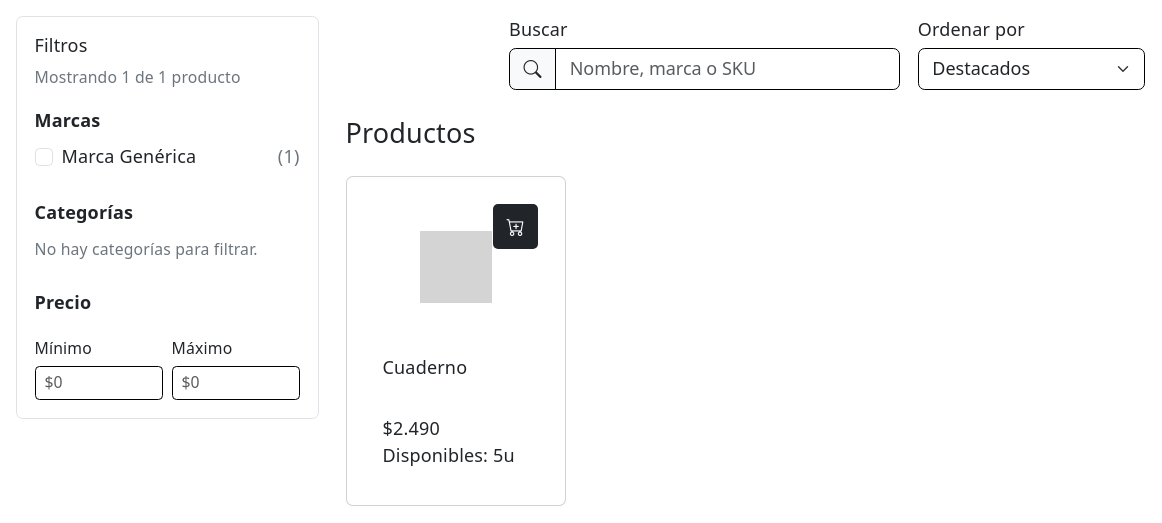
Products › Muestra el mensaje vacío cuando ningún producto coincide con los filtros
The image size is (1162, 523).
Expected: the heading "Cuaderno" is shown, [382,355,467,379]
Type "no existe" into the search field labelled "Buscar". click: (728,69)
box: [555,48,900,90]
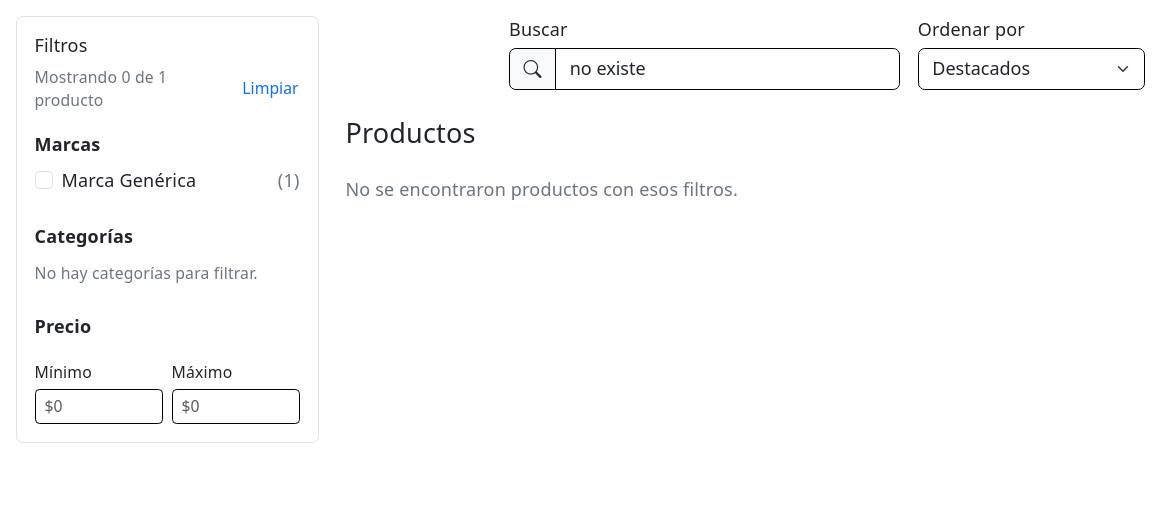
Now the text "No se encontraron productos con esos filtros." is shown, box [346,177,738,201]
Now the heading "Cuaderno" is gone
